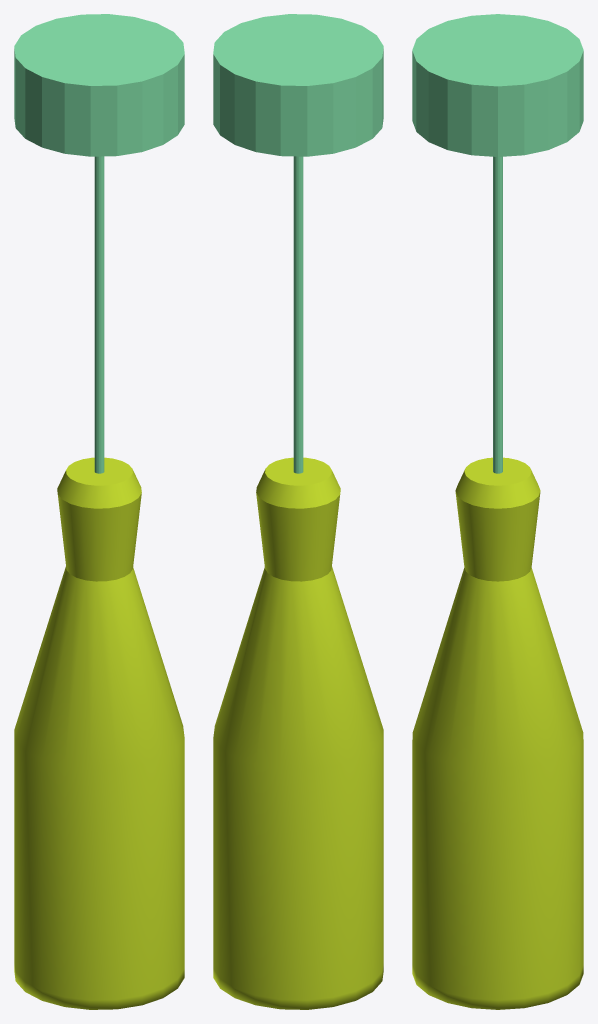
File: lampB.fbx
3 renders of one model, left to right at view 1: azimuth 30°, elevation 25°; view 2: azimuth 150°, elevation 25°; view 3: azimuth 270°, elevation 25°, orthographic.
Visible parts, largest first — view 1: lampB; view 2: lampB; view 3: lampB.
Part boxes in pixels (bbox=[...]): lampB: bbox=[14, 14, 184, 1009]; lampB: bbox=[213, 14, 383, 1009]; lampB: bbox=[412, 14, 583, 1009].
Size of the model in its own units: 12.18 by 72.41 by 12.18.
